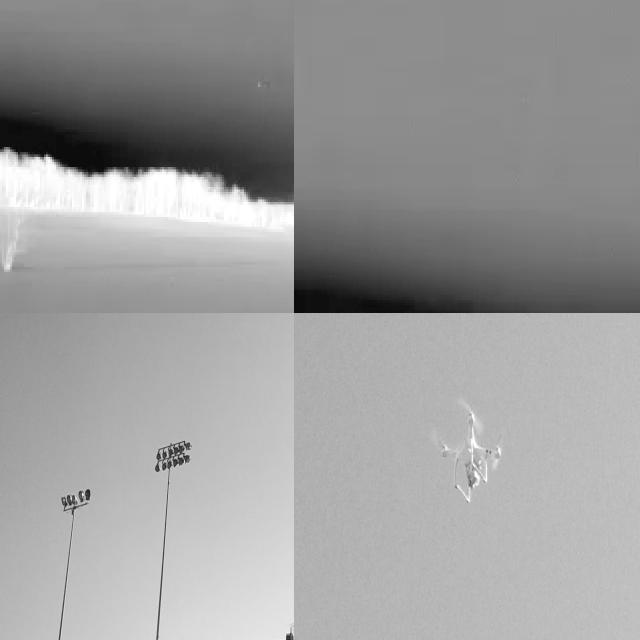0: (251, 70, 277, 104)
drone: (434, 394, 506, 508)
